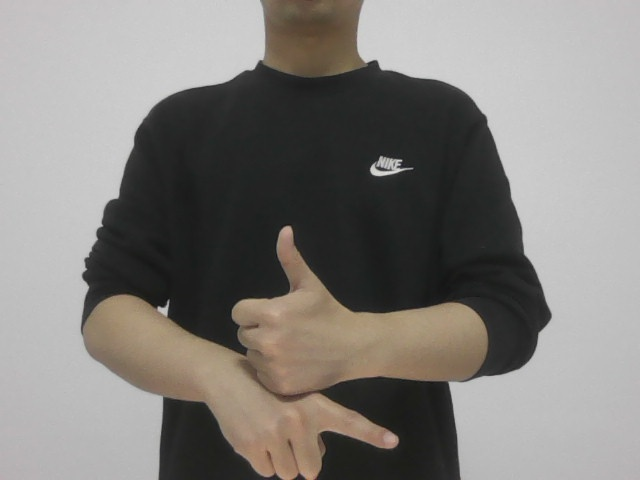birthday: (217, 218, 406, 480)
